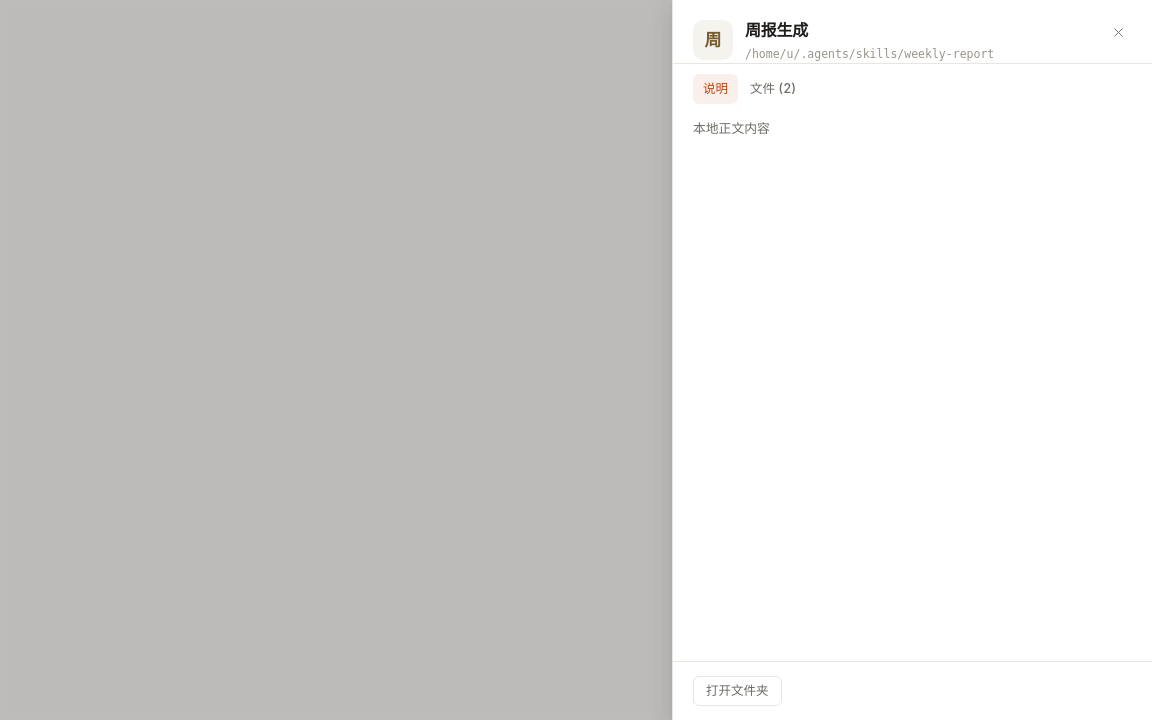
Test case: DetailPanel(本地详情模式) › 文件标签页展示文件树与脚本警示
Click the tab "文件 (2)": click(773, 89) [740,74,806,104]
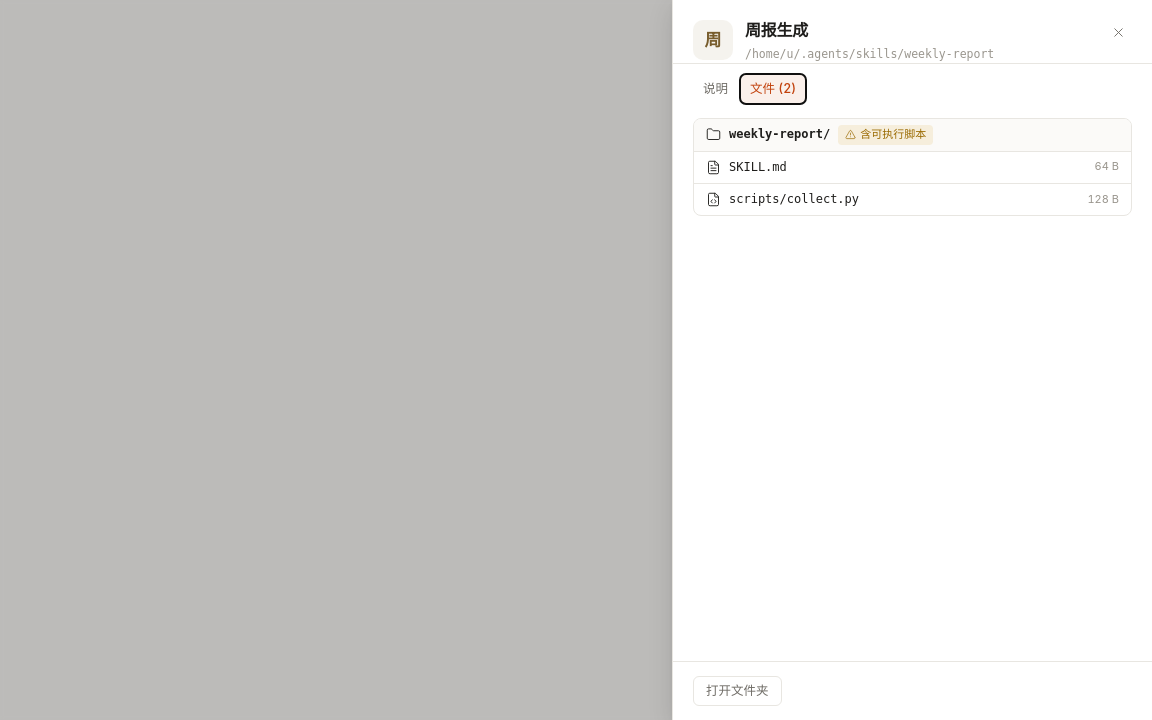
Check: the text "scripts/collect.py" is shown, box [729,190,859,209]
Check: the text "含可执行脚本" is shown, box [838,125,933,145]
